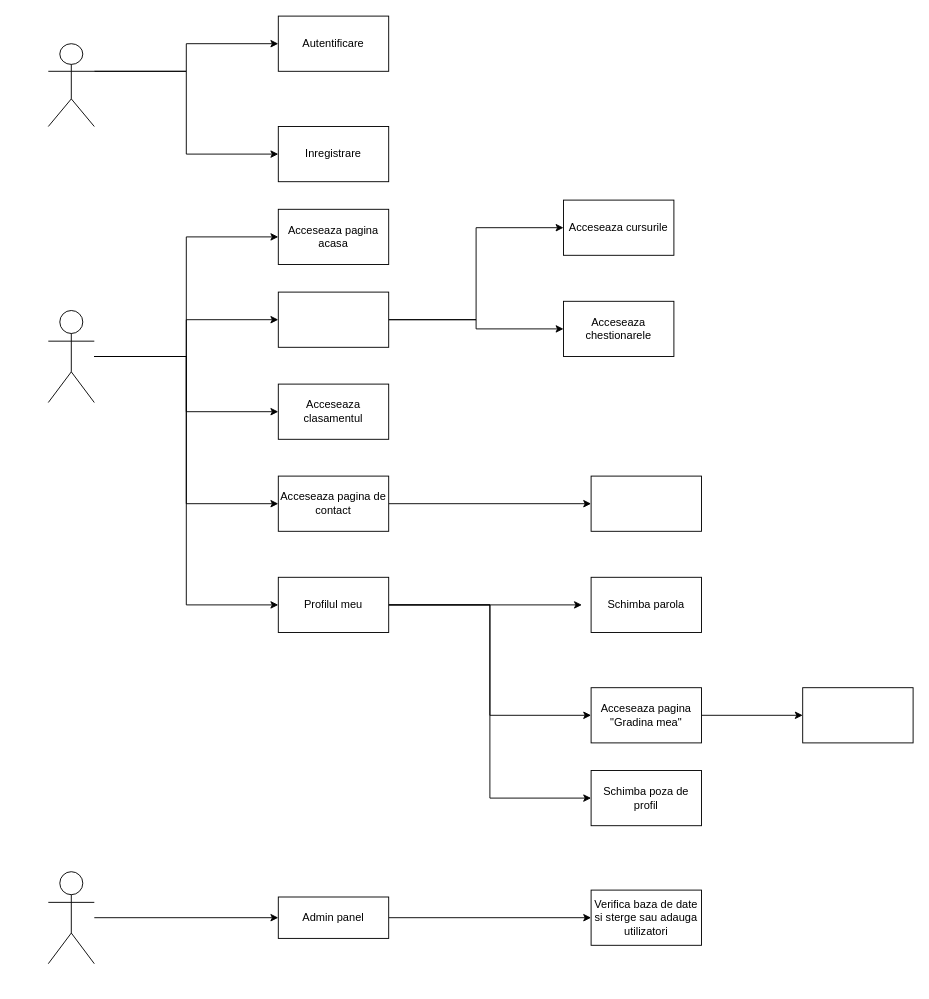
Some shapes in this 929 by 999 pixel diagram are drawn without their labels. The shapes that lost their labels are listed below. From the top down, each one's centre as x and y in pixels, then its label:
At (70,84): "Utilizator neautentificat".
At (333,319): "Acceseaza mediul de invatare".
At (70,356): "Utilizator Autentificat".
At (646,503): "Trimite feedback".
At (857,715): "Vede florile deblochate in functie de numarul de puncte".
At (70,917): "Admin".
